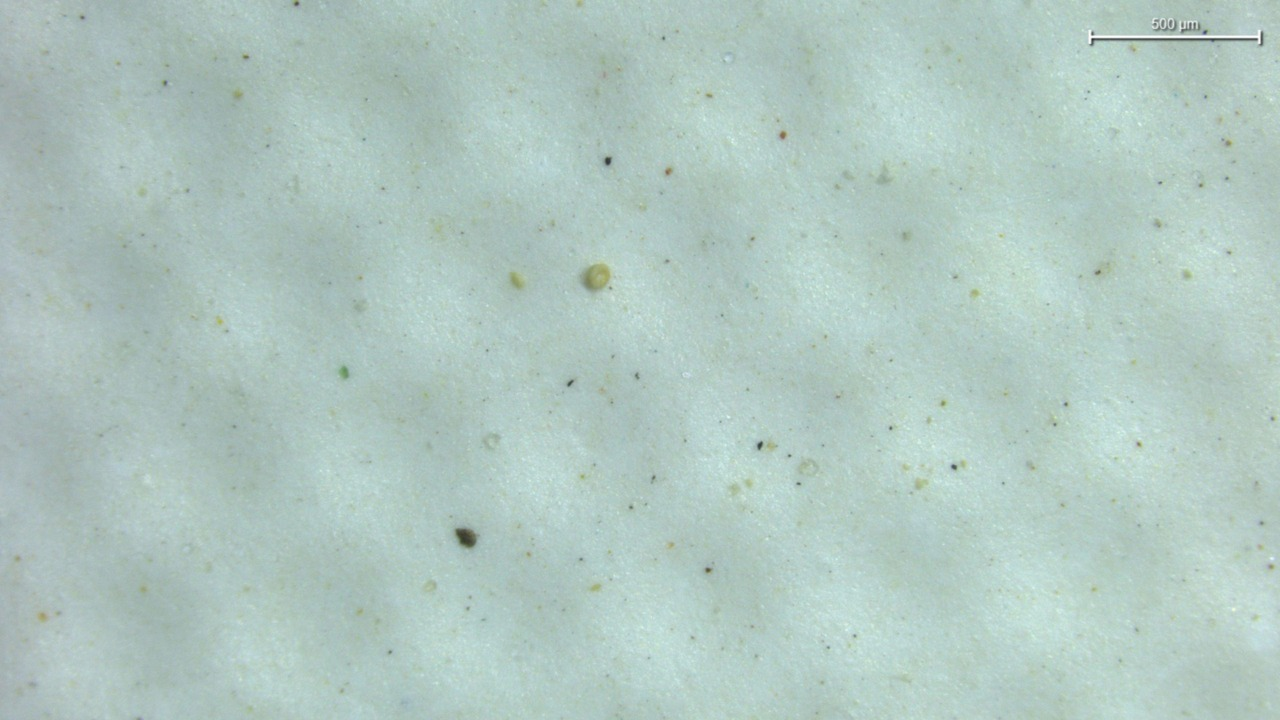microplastic_fragment: (456, 528, 476, 547)
